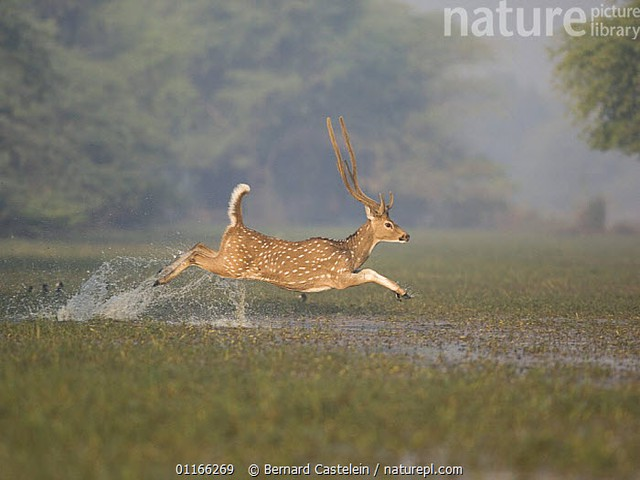deer: (152, 111, 421, 309)
